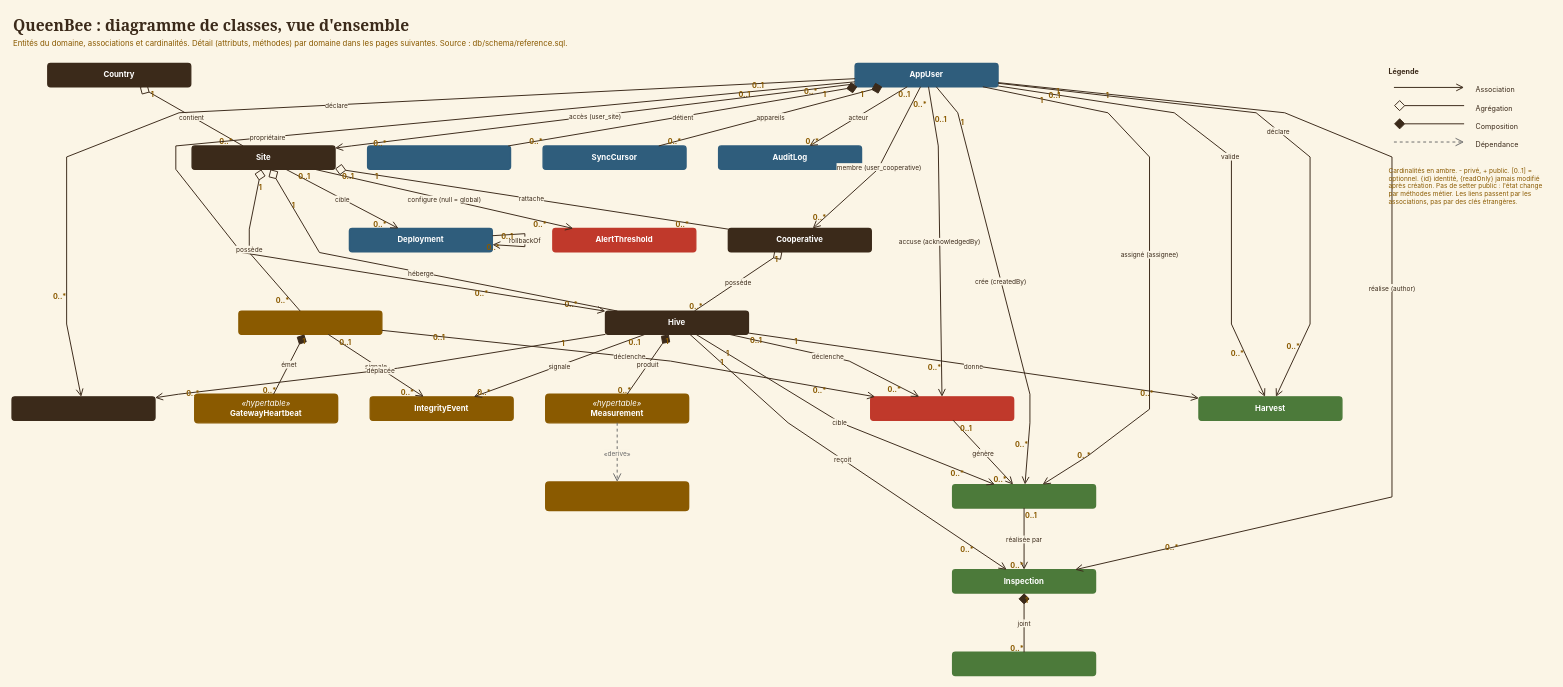
Some shapes in this 1563 by 687 pixel diagram are drawn without their labels. Here are the shapes that lost their labels. From the top down, the centre of each, then its label:
pixel 439 157: RefreshToken
pixel 310 322: Gateway
pixel 83 408: HiveMove
pixel 942 408: Alert
pixel 617 496: «continuous aggregate» MeasurementHourly
pixel 1024 496: VisitPlan
pixel 1024 663: InspectionPhoto
